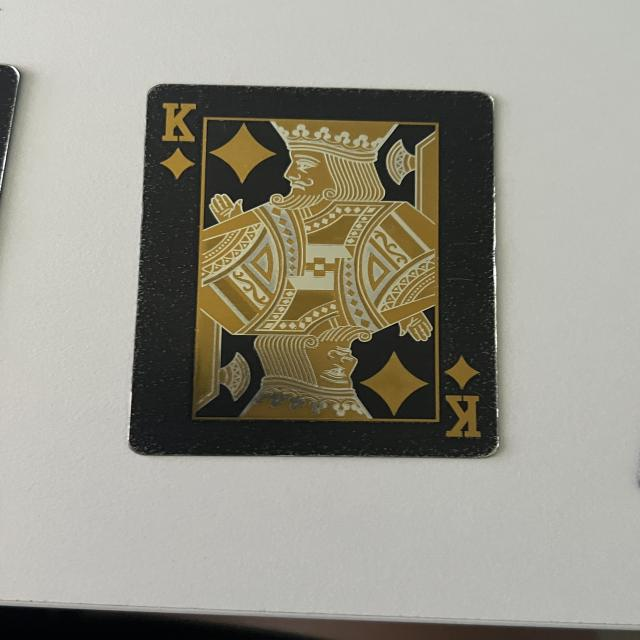KD: (153, 95, 200, 185), (440, 353, 487, 443)
